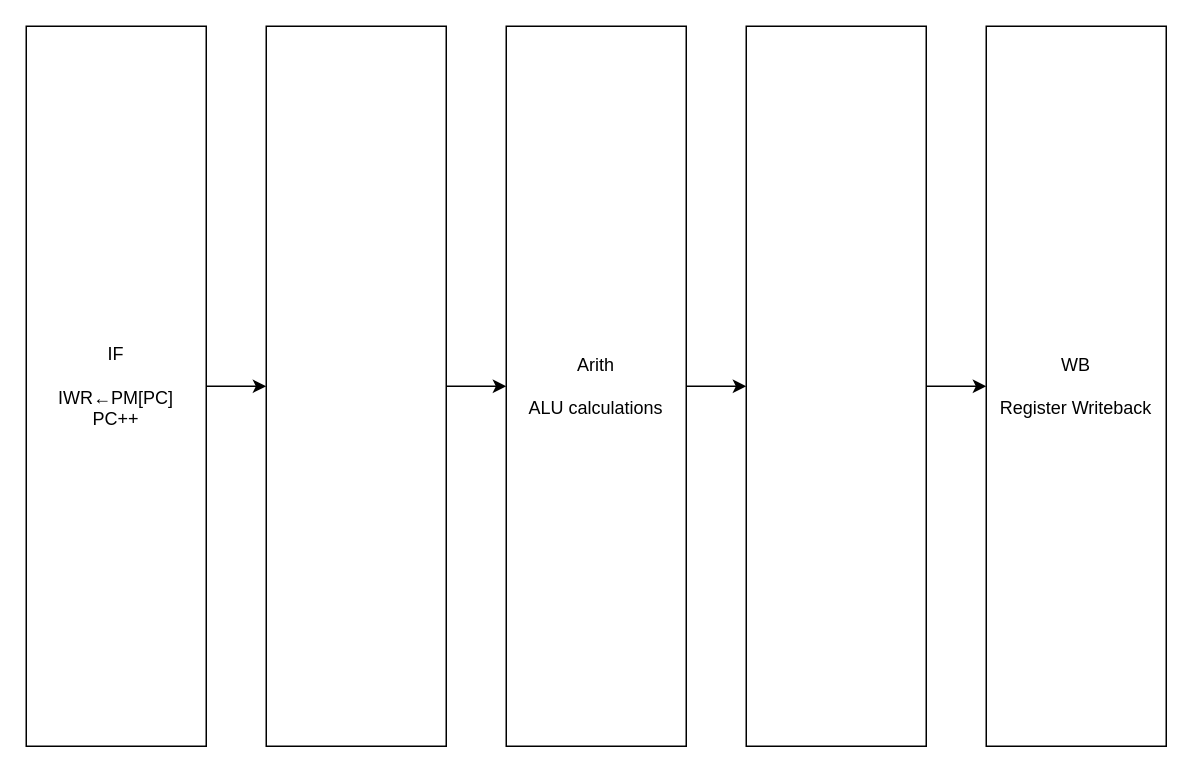
Image size: 1193x773. Some labels were removed from this diagram. The shapes that lost their labels are listed below. From the top down, each one's centre as x and y in pixels, then its label:
At pixel 355 385: "ID Decode Opcode Generate Immediate Gen Control Signals".
At pixel 835 385: "MEM R/W Data Memory".
